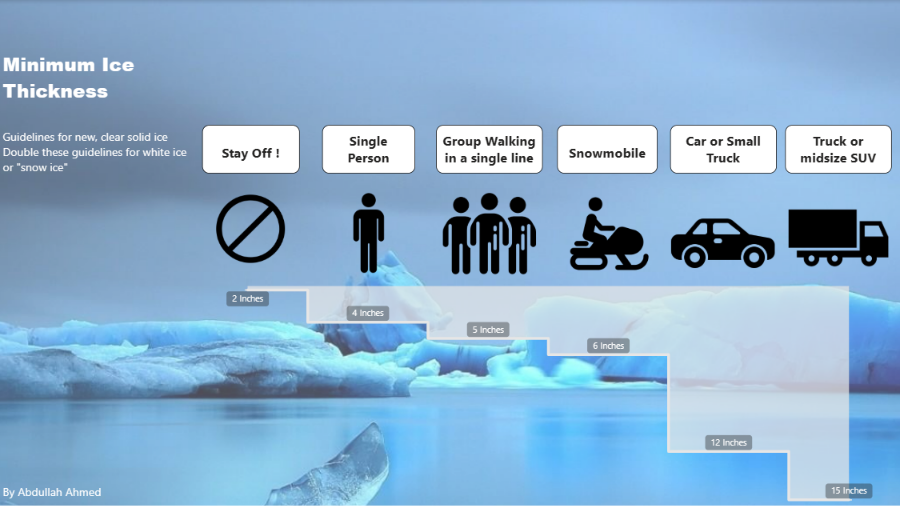

What the dashboard file says about the page in this screenshot:
{"tool":"powerbi","page":{"name":"Page 1","canvas":[1280,720],"ordinal":0},"visuals":[{"type":"lineChart","fields":{"Category":["Ice Thickness.Weight Item"],"Y":["Ice Thickness.Ice thickness in negative"]},"box":[280.3,393,1000,326.6],"z":0},{"type":"textbox","box":[0,66.5,280.3,653.2],"z":1000},{"type":"image","box":[458.3,271.7,131.7,119.4],"z":2000},{"type":"image","box":[620.2,245.6,150.9,171.5],"z":3000},{"type":"image","box":[811,245.6,111.1,171.5],"z":4000},{"type":"image","box":[1115.6,266.2,150.9,141.3],"z":5000},{"type":"image","box":[952.3,274.4,149.6,163.3],"z":6000},{"type":"image","box":[307.4,274.4,97.4,101.5],"z":7000},{"type":"textbox","box":[458.3,177,131.7,68.6],"z":8000},{"type":"textbox","box":[620.2,177,150.9,68.6],"z":9000},{"type":"textbox","box":[791.8,177,142.7,68.6],"z":10000},{"type":"textbox","box":[952.3,177,150.9,68.6],"z":11000},{"type":"textbox","box":[1115.6,177,150.9,68.6],"z":12000},{"type":"textbox","box":[288.2,177,138.6,68.6],"z":13000}]}

Visuals, with their boxes in screenshot pixels (x1, y1, x2, y2), scaled from the page's 1280x720 canvas onto the 900x506 screenshot:
lineChart - Ice Thickness.Weight Item x Ice Thickness.Ice thickness in negative: 197, 276, 899, 505
textbox: 0, 47, 197, 505
image: 322, 191, 415, 275
image: 436, 173, 542, 293
image: 570, 173, 648, 293
image: 784, 187, 891, 286
image: 670, 193, 775, 308
image: 216, 193, 285, 264
textbox: 322, 124, 415, 173
textbox: 436, 124, 542, 173
textbox: 557, 124, 657, 173
textbox: 670, 124, 776, 173
textbox: 784, 124, 891, 173
textbox: 203, 124, 300, 173
